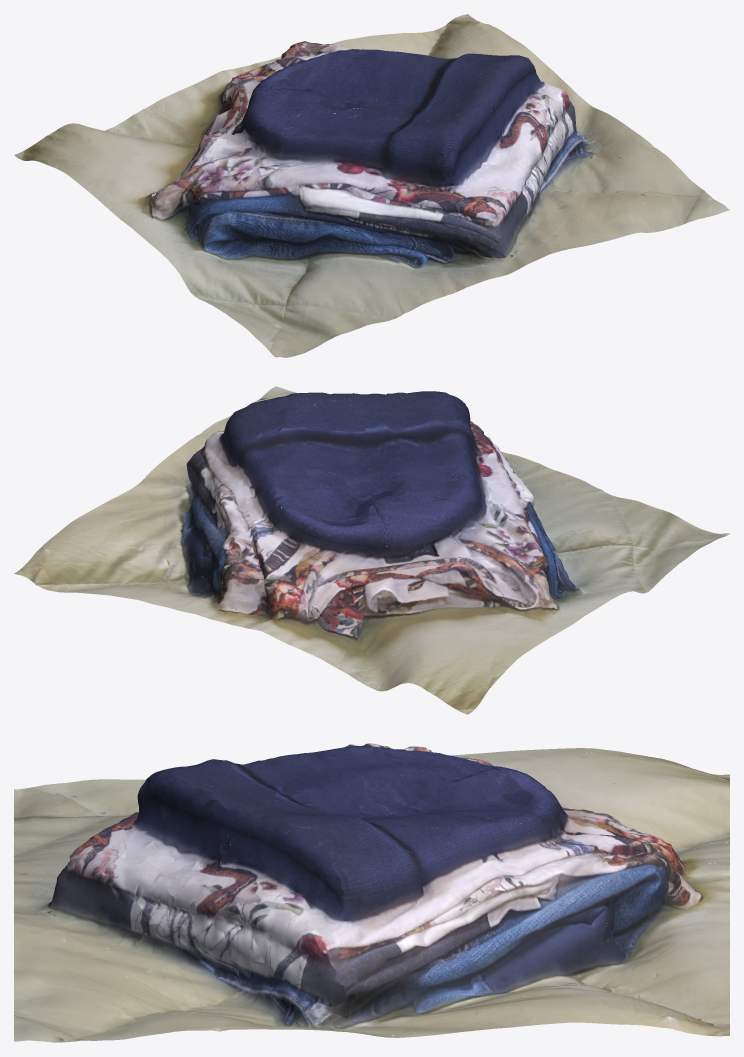
The picture shows the model from 3 angles, top to bottom: view 1: azimuth 30°, elevation 25°; view 2: azimuth 150°, elevation 25°; view 3: azimuth 270°, elevation 25°; orthographic projection. The views are drawn at different scales.
Visible parts, largest first — view 1: Group_Global; view 2: Group_Global; view 3: Group_Global.
Part boxes in pixels (bbox=[...]): Group_Global: bbox=[14, 14, 729, 357]; Group_Global: bbox=[14, 386, 729, 714]; Group_Global: bbox=[14, 743, 729, 1042].
Size of the model in its own units: 943 by 276 by 943.
Materials: 1 (1 with a texture image).
